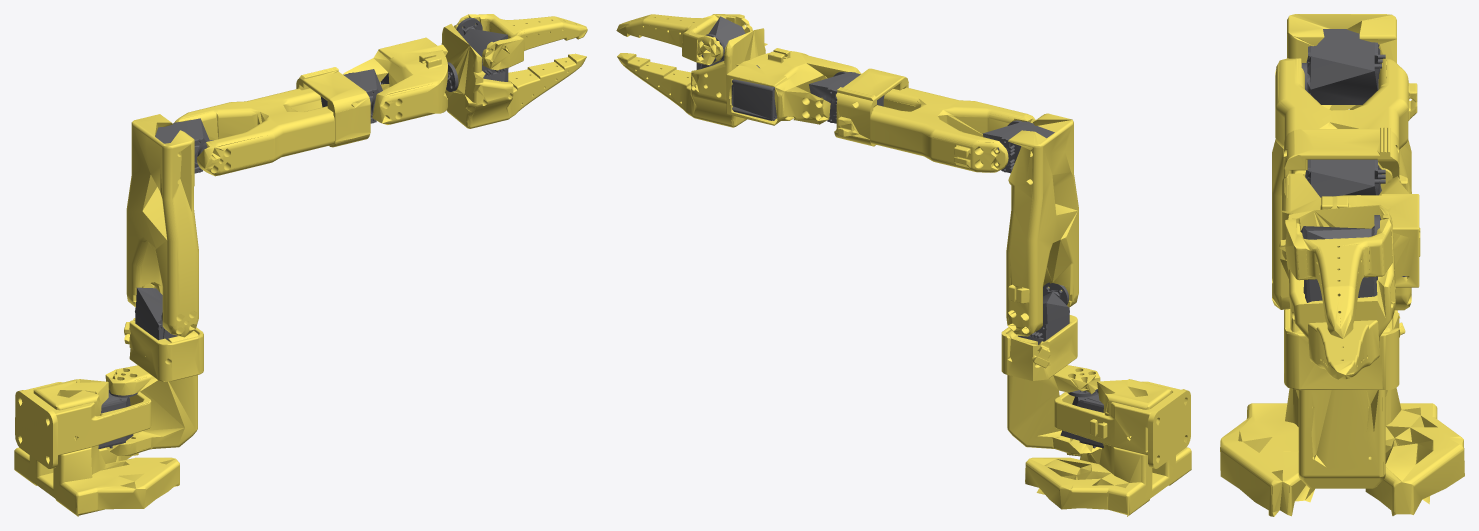
The picture shows the model from 3 angles, left to right: view 1: azimuth 30°, elevation 25°; view 2: azimuth 150°, elevation 25°; view 3: azimuth 270°, elevation 25°; orthographic projection. The views are drawn at different scales.
Visible parts, largest first — view 1: upper_arm_so101_v1.stl, base_so101_v2.stl, under_arm_so101_v1.stl, wrist_roll_follower_so101_v1.stl, wrist_roll_pitch_so101_v2.stl, rotation_pitch_so101_v1.stl, sts3215_03a_v1.stl (×5), base_motor_holder_so101_v1.stl, moving_jaw_so101_v1.stl, motor_holder_so101_base_v1.stl, motor_holder_so101_wrist_v1.stl, waveshare_mounting_plate_so101_v2.stl; view 2: upper_arm_so101_v1.stl, base_so101_v2.stl, under_arm_so101_v1.stl, wrist_roll_follower_so101_v1.stl, wrist_roll_pitch_so101_v2.stl, sts3215_03a_v1.stl (×5), rotation_pitch_so101_v1.stl, base_motor_holder_so101_v1.stl, moving_jaw_so101_v1.stl, motor_holder_so101_base_v1.stl, motor_holder_so101_wrist_v1.stl, waveshare_mounting_plate_so101_v2.stl (+1 smaller); view 3: base_so101_v2.stl, sts3215_03a_v1.stl (×3), rotation_pitch_so101_v1.stl, wrist_roll_follower_so101_v1.stl, under_arm_so101_v1.stl, moving_jaw_so101_v1.stl, upper_arm_so101_v1.stl, wrist_roll_pitch_so101_v2.stl, motor_holder_so101_base_v1.stl, motor_holder_so101_wrist_v1.stl.
Boxes of the visible parts, <box> form: upper_arm_so101_v1.stl: <box>126,114,198,337</box>; base_so101_v2.stl: <box>14,379,179,516</box>; under_arm_so101_v1.stl: <box>174,88,334,176</box>; wrist_roll_follower_so101_v1.stl: <box>441,24,586,128</box>; wrist_roll_pitch_so101_v2.stl: <box>343,37,447,124</box>; rotation_pitch_so101_v1.stl: <box>105,331,198,456</box>; sts3215_03a_v1.stl (×5): <box>98,17,508,448</box>; base_motor_holder_so101_v1.stl: <box>25,382,151,455</box>; moving_jaw_so101_v1.stl: <box>454,14,587,70</box>; motor_holder_so101_base_v1.stl: <box>124,318,203,381</box>; motor_holder_so101_wrist_v1.stl: <box>296,67,370,147</box>; waveshare_mounting_plate_so101_v2.stl: <box>15,390,57,468</box>; upper_arm_so101_v1.stl: <box>1006,113,1078,336</box>; base_so101_v2.stl: <box>1025,379,1191,516</box>; under_arm_so101_v1.stl: <box>836,87,1035,172</box>; wrist_roll_follower_so101_v1.stl: <box>617,28,767,127</box>; wrist_roll_pitch_so101_v2.stl: <box>726,48,861,125</box>; sts3215_03a_v1.stl (×5): <box>696,16,1103,448</box>; rotation_pitch_so101_v1.stl: <box>1006,330,1100,455</box>; base_motor_holder_so101_v1.stl: <box>1054,381,1180,455</box>; moving_jaw_so101_v1.stl: <box>616,14,752,65</box>; motor_holder_so101_base_v1.stl: <box>1001,315,1077,380</box>; motor_holder_so101_wrist_v1.stl: <box>834,68,908,146</box>; waveshare_mounting_plate_so101_v2.stl: <box>1148,389,1190,468</box>; base_so101_v2.stl: <box>1220,387,1464,516</box>; sts3215_03a_v1.stl (×3): <box>1300,29,1385,302</box>; rotation_pitch_so101_v1.stl: <box>1291,318,1392,488</box>; wrist_roll_follower_so101_v1.stl: <box>1279,205,1395,379</box>; under_arm_so101_v1.stl: <box>1275,58,1417,189</box>; moving_jaw_so101_v1.stl: <box>1285,214,1392,338</box>; upper_arm_so101_v1.stl: <box>1272,14,1420,310</box>; wrist_roll_pitch_so101_v2.stl: <box>1282,173,1419,287</box>; motor_holder_so101_base_v1.stl: <box>1284,309,1405,390</box>; motor_holder_so101_wrist_v1.stl: <box>1283,127,1407,191</box>.
Size of the model in its own units: 0.4306 by 0.2691 by 0.1111.
